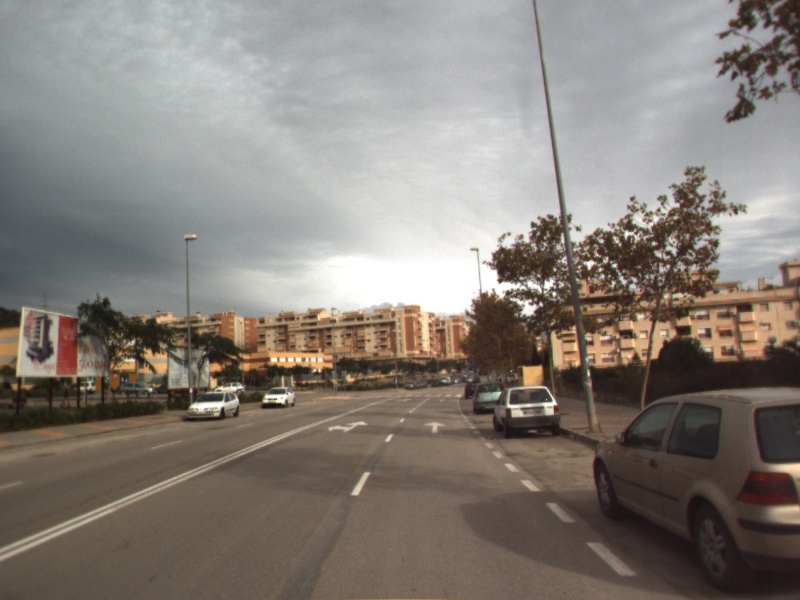STRAIGHT: (423, 419, 449, 435)
STRAIGHT_LEFT: (326, 419, 370, 434)
